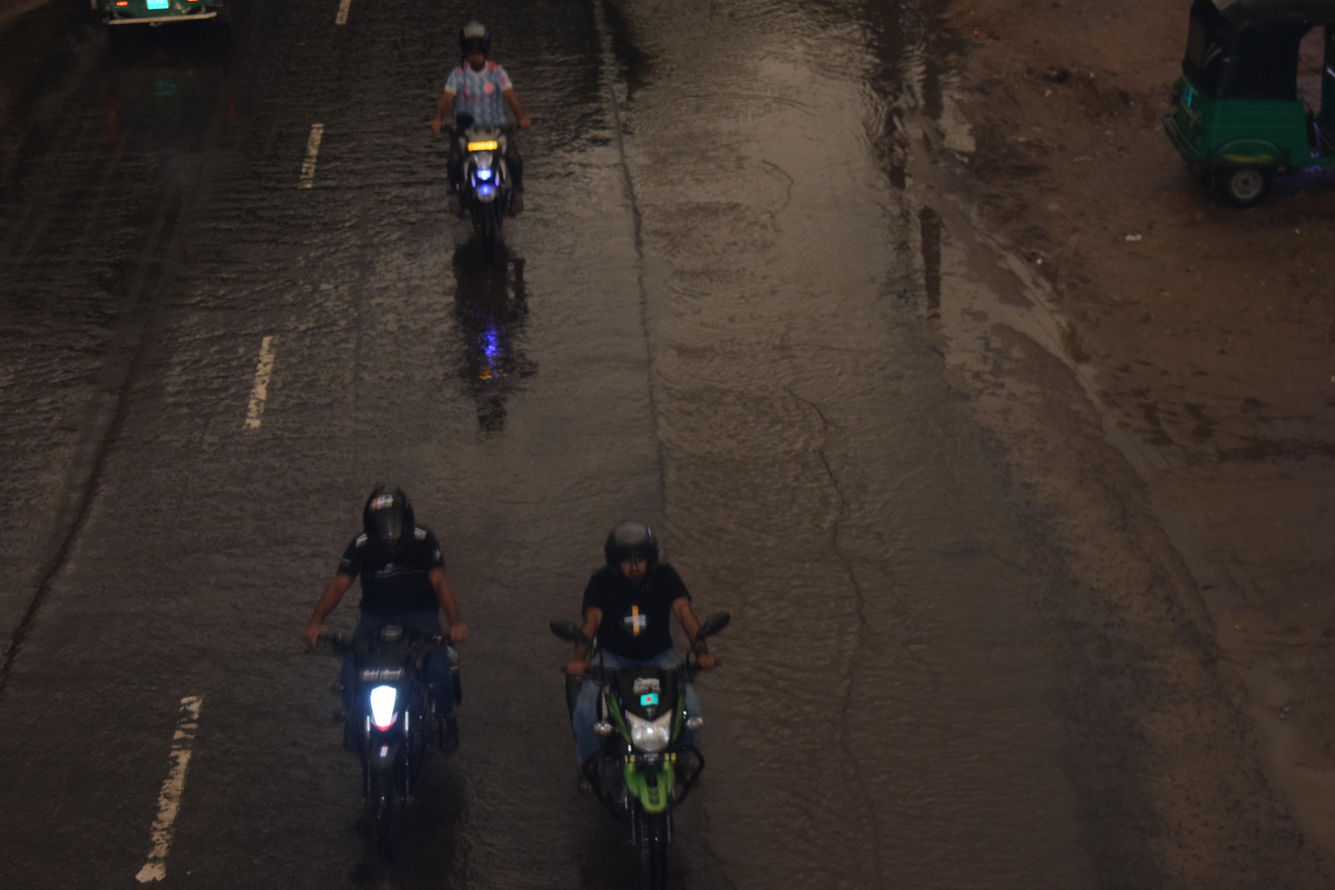Bike: (509, 445, 801, 890), (243, 445, 502, 884), (359, 0, 594, 275)
